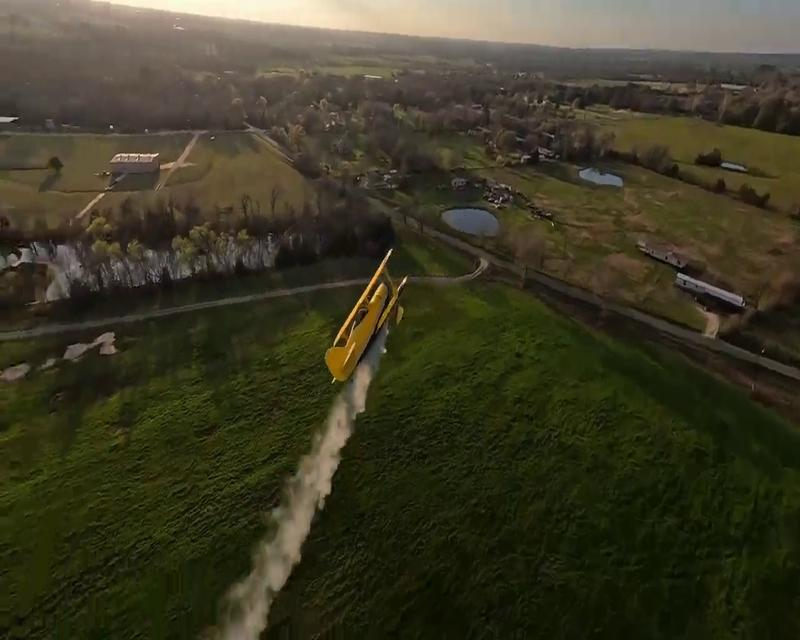UAV: (323, 246, 409, 384)
